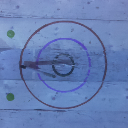Axe Tip: (24, 65, 35, 68)
